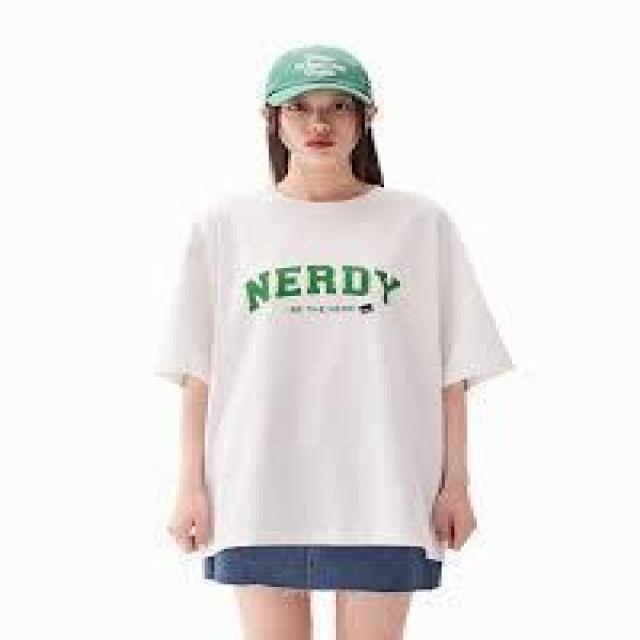Tshirt: (142, 174, 517, 560)
